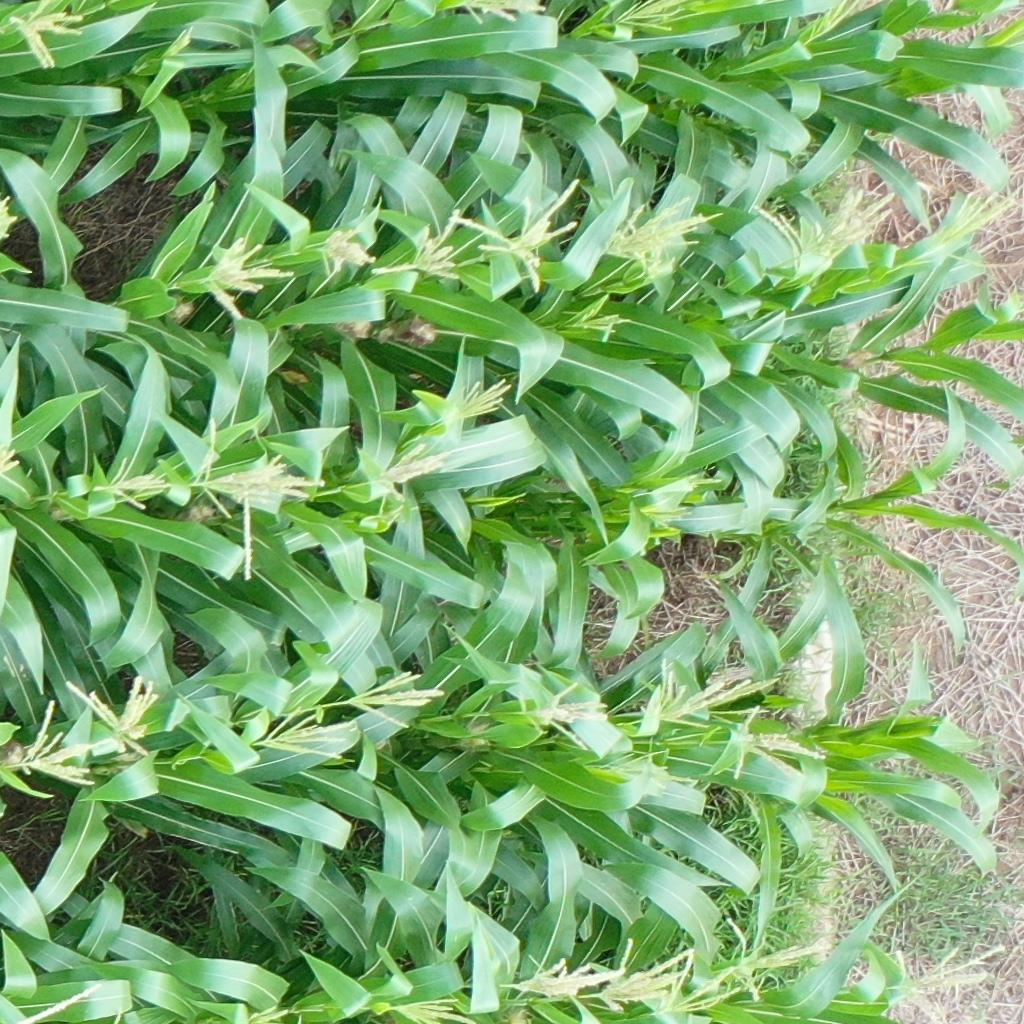Tassel: (199, 418, 321, 580), (454, 178, 587, 293), (753, 184, 896, 264), (644, 656, 782, 730), (711, 917, 834, 999), (604, 193, 721, 276), (200, 240, 301, 321), (66, 674, 165, 755), (13, 698, 101, 789), (519, 674, 614, 752), (726, 707, 822, 784), (370, 205, 461, 286), (923, 182, 1024, 248), (345, 662, 440, 732), (598, 936, 693, 1005), (886, 939, 1006, 992), (260, 709, 361, 771), (592, 745, 697, 799), (504, 952, 626, 998), (658, 953, 740, 1013), (12, 1, 85, 68), (377, 442, 443, 505), (433, 377, 516, 426), (88, 462, 172, 510), (804, 1, 883, 42), (317, 227, 377, 276), (617, 1, 702, 35), (457, 1, 549, 26), (571, 302, 633, 337), (391, 995, 464, 1024), (1, 431, 23, 480), (163, 25, 196, 57), (1, 192, 20, 242)
